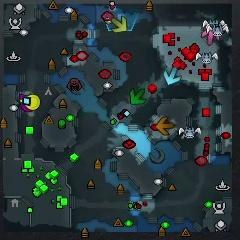p2: (163, 66, 183, 85)
p3: (19, 93, 32, 113)
p4: (20, 94, 42, 111)
x1: (202, 30, 222, 46)
x2: (111, 16, 128, 34)
x4: (128, 88, 147, 105)
x5: (157, 117, 174, 136)
